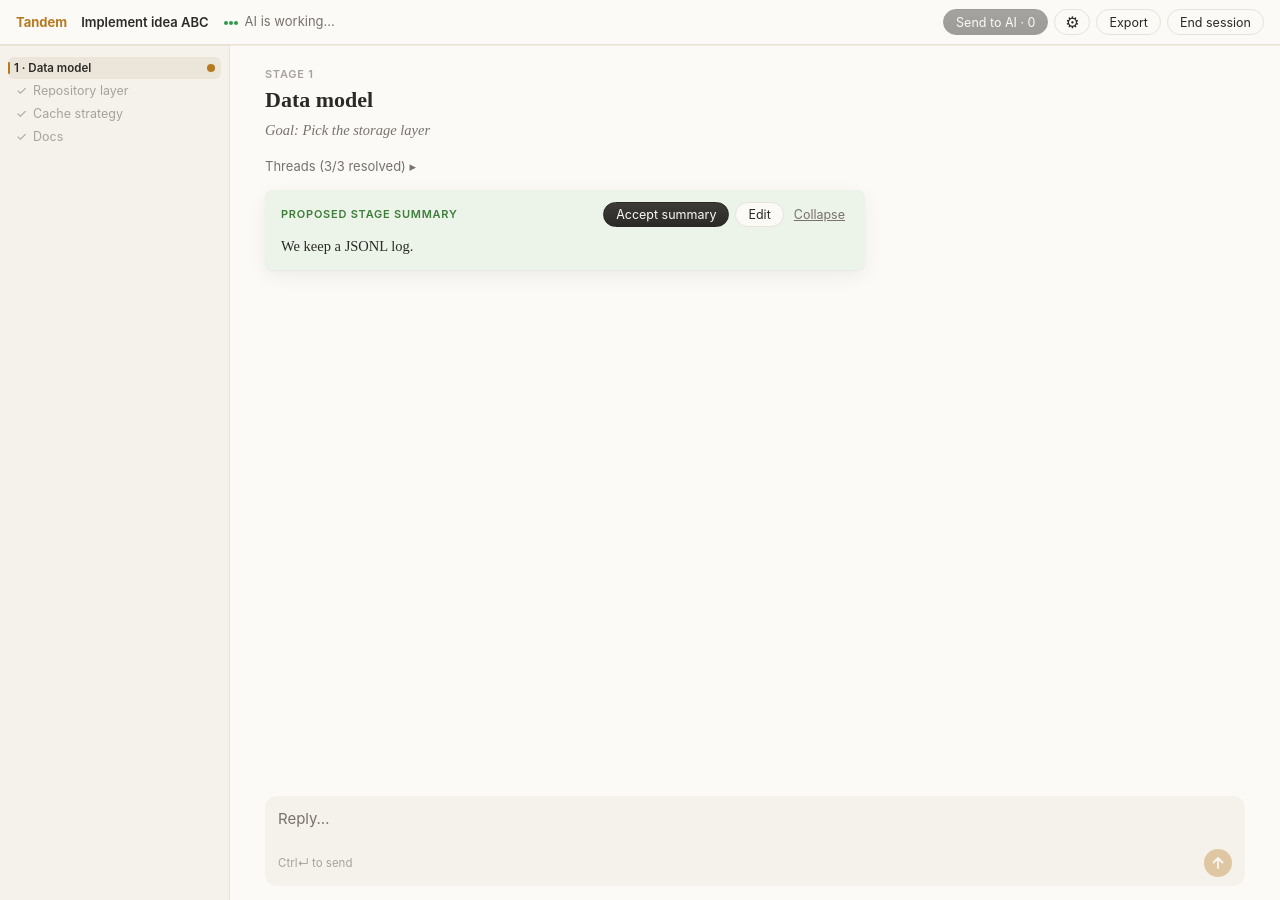
SessionPage scrolls to the accepted box after Accept summary (demo 7 follow-ups 4) › does not scroll after a failed accept
Click the button "Accept summary".
click(666, 215)  # box left=603, top=202, right=730, bottom=227
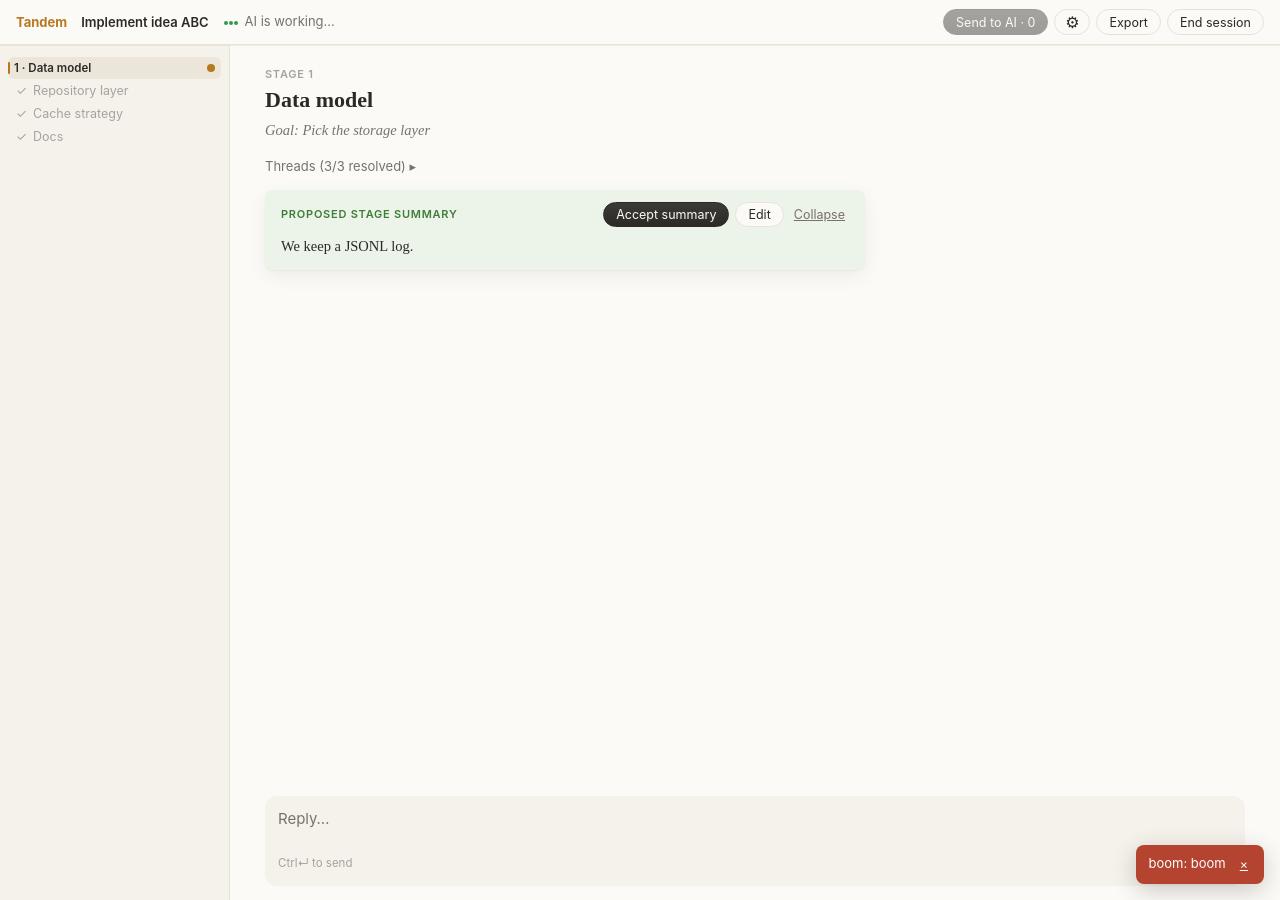
Expected: the message "boom: boom ×" is shown, left=1136, top=845, right=1264, bottom=884
